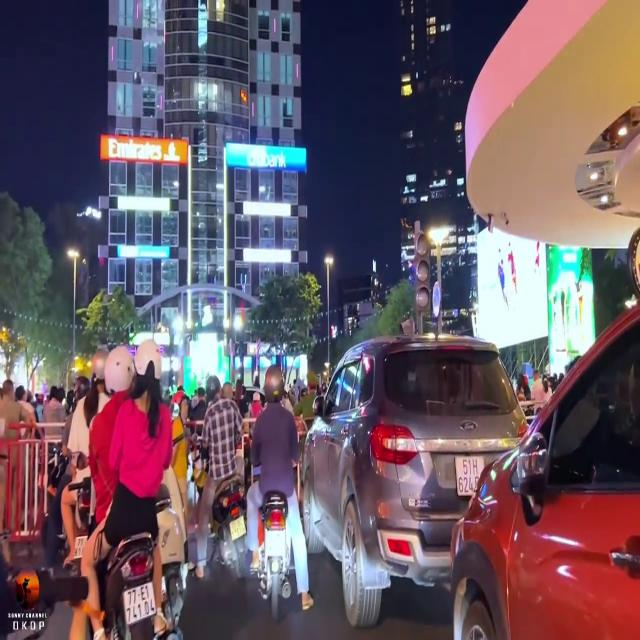bien_trang: (120, 580, 158, 620), (455, 454, 484, 498)
